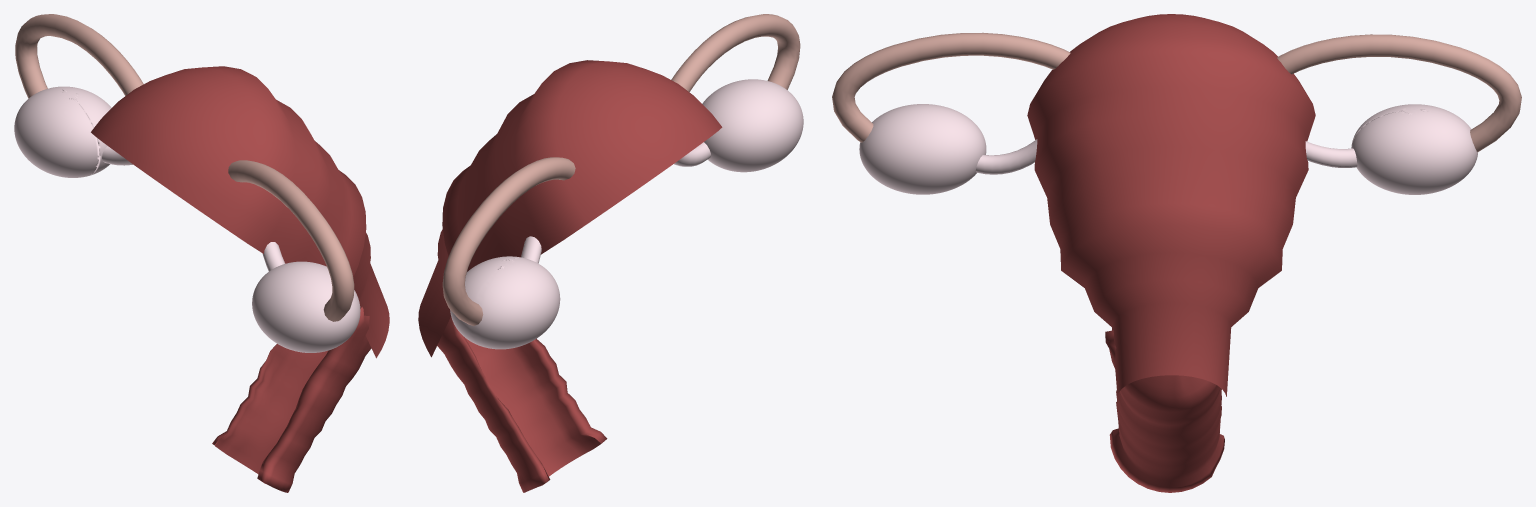
File: ak_uterus110422.gltf
3 views of the same model, side by side, from view 1: azimuth 30°, elevation 25°; view 2: azimuth 150°, elevation 25°; view 3: azimuth 270°, elevation 25° (orthographic). The views are drawn at different scales.
Visible parts, largest first — view 1: WOMB, OVARIES, UTERUS, TUBE_R, TUBE_L, Ov_Tube_R; view 2: WOMB, OVARIES, UTERUS, TUBE_L, TUBE_R, Ov_Tube_R; view 3: WOMB, OVARIES, UTERUS, TUBE_L, TUBE_R, Ov_Tube_R, Ov_Tube_R.001.
Boxes of the visible parts, box(x1,y1,x2,y2) form: WOMB: box(91, 66, 389, 358); OVARIES: box(14, 86, 360, 352); UTERUS: box(212, 307, 371, 492); TUBE_R: box(228, 160, 354, 321); TUBE_L: box(15, 14, 143, 98); Ov_Tube_R: box(262, 242, 285, 271); WOMB: box(418, 60, 722, 357); OVARIES: box(450, 79, 803, 349); UTERUS: box(437, 316, 607, 492); TUBE_L: box(442, 157, 575, 325); TUBE_R: box(671, 14, 800, 91); Ov_Tube_R: box(674, 142, 710, 166); WOMB: box(1027, 14, 1315, 396); OVARIES: box(859, 104, 1477, 194); UTERUS: box(1105, 330, 1224, 492); TUBE_L: box(1277, 34, 1521, 151); TUBE_R: box(832, 32, 1070, 142); Ov_Tube_R: box(975, 139, 1037, 174); Ov_Tube_R.001: box(1305, 141, 1357, 167).
Size of the model in its own units: 1.66 by 2.54 by 3.67.
